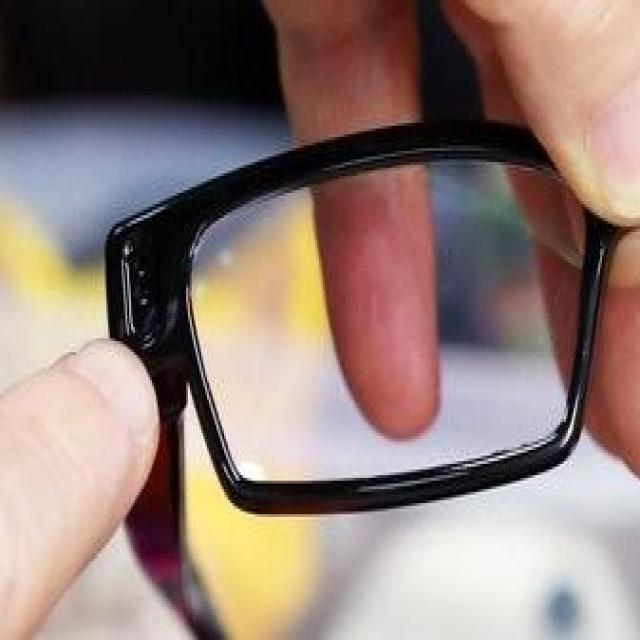hidden camera: (134, 272, 153, 306)
